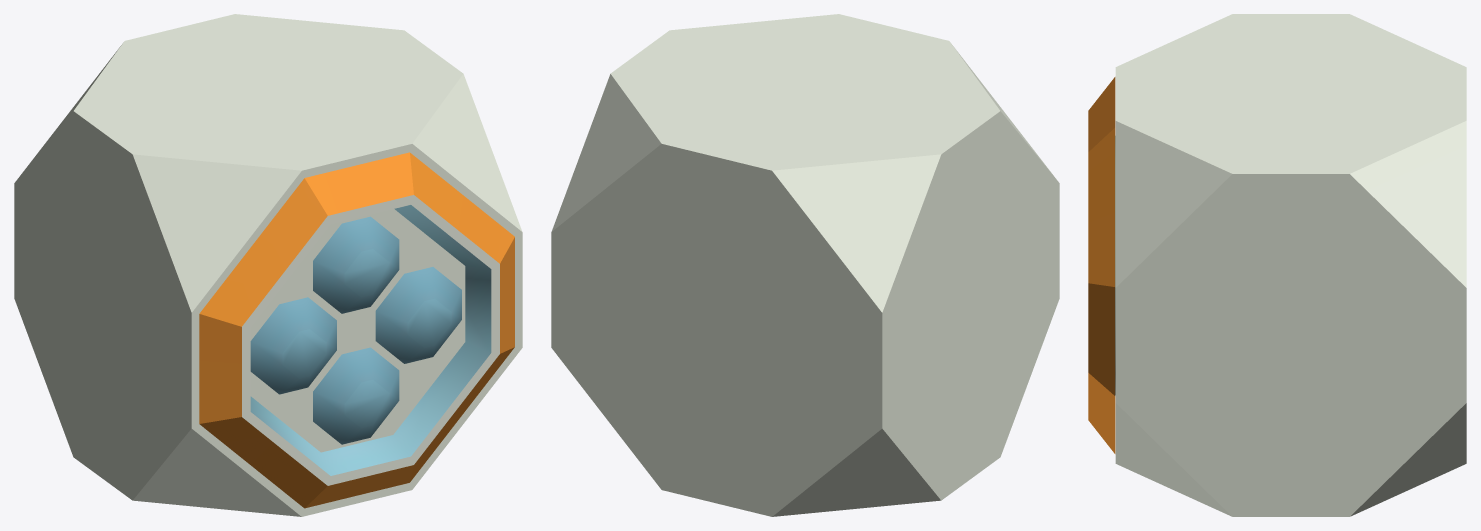
Rendered from Shield3.fbx.
3 views of the same model, side by side, from view 1: azimuth 30°, elevation 25°; view 2: azimuth 150°, elevation 25°; view 3: azimuth 270°, elevation 25° (orthographic).
Parts seen in each view (by area): view 1: Shield 1x1.001; view 2: Shield 1x1.001; view 3: Shield 1x1.001.
Boxes of the visible parts, <box> form: Shield 1x1.001: <box>14,14,522,516</box>; Shield 1x1.001: <box>551,14,1059,516</box>; Shield 1x1.001: <box>1088,14,1466,516</box>.
Bounding box in the file's own units: 100 × 100 × 100.
